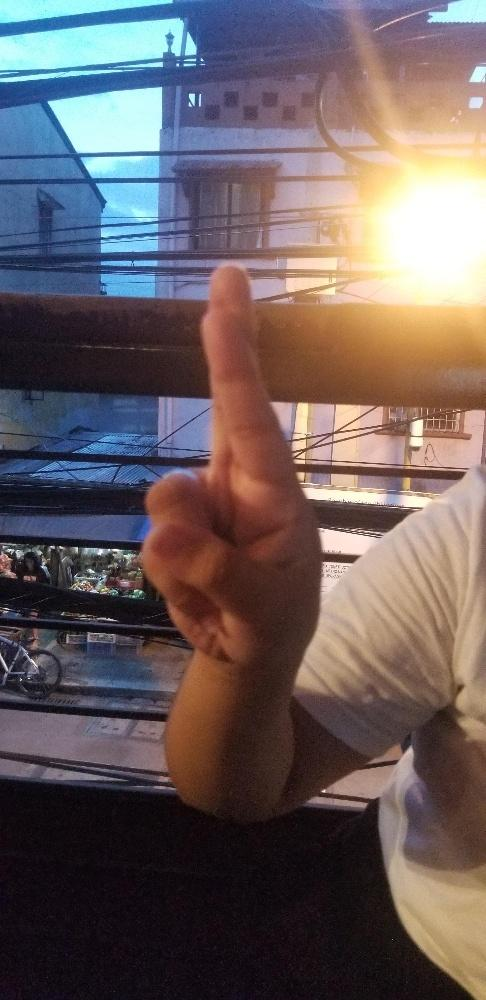r: (139, 257, 323, 672)
